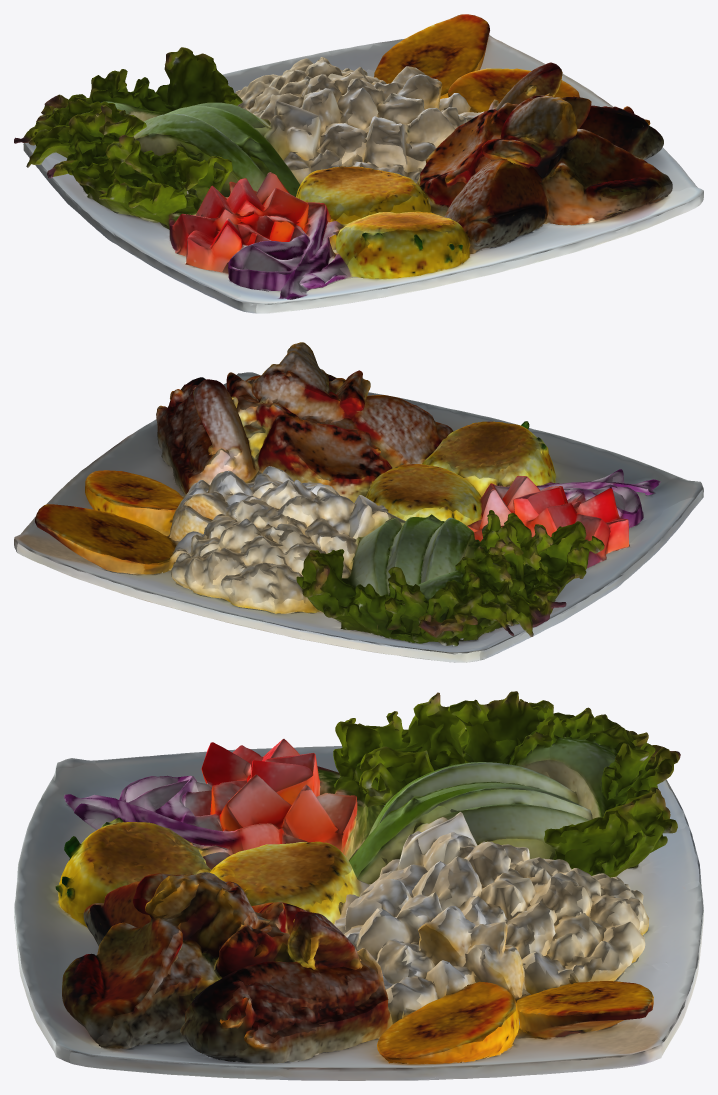
The model's file is strong.glb.
The picture shows the model from 3 angles, top to bottom: view 1: azimuth 30°, elevation 25°; view 2: azimuth 150°, elevation 25°; view 3: azimuth 270°, elevation 25°; orthographic projection. The views are drawn at different scales.
Visible parts, largest first — view 1: geometry_0; view 2: geometry_0; view 3: geometry_0.
Part boxes in pixels (x1=…): geometry_0: x1=14, y1=14, x2=703, y2=313; geometry_0: x1=14, y1=342, x2=703, y2=662; geometry_0: x1=14, y1=691, x2=703, y2=1080.
Bounding box in the file's own units: 0.2624 × 0.065 × 0.2348.
Materials: 1 (1 with a texture image).
